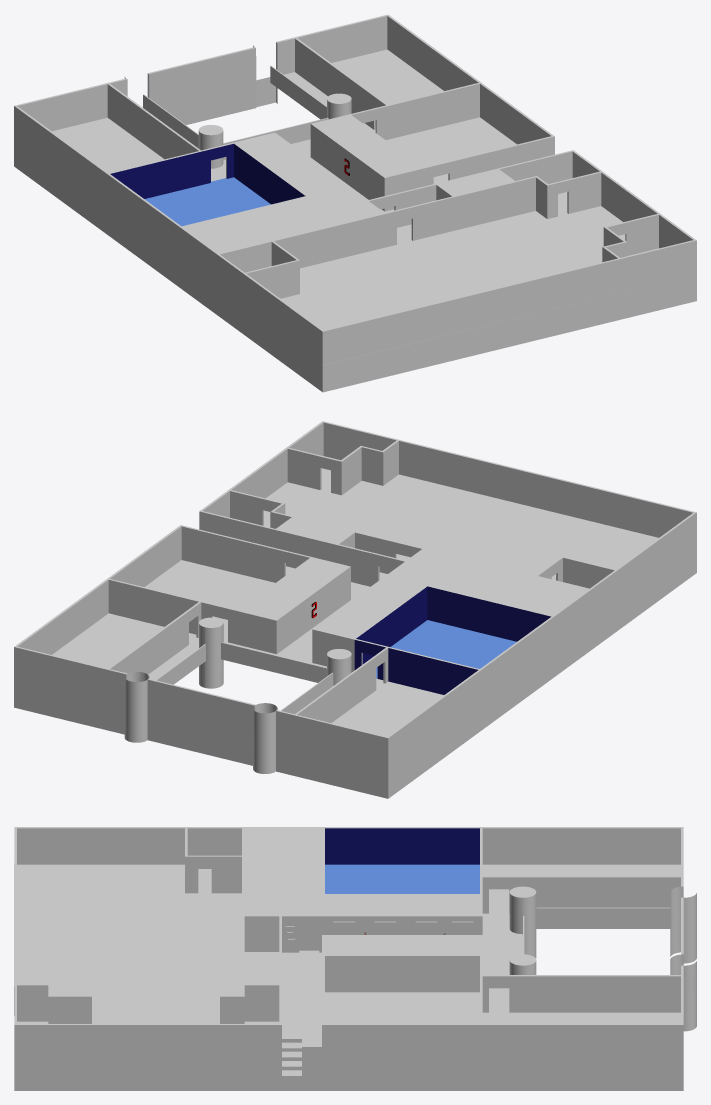
Rendered from financiallab.gltf.
3 renders of one model, top to bottom at view 1: azimuth 30°, elevation 25°; view 2: azimuth 150°, elevation 25°; view 3: azimuth 270°, elevation 25°, orthographic. The views are drawn at different scales.
Visible parts, largest first — view 1: root; view 2: root; view 3: root.
Boxes of the visible parts, left/top/right/bottom form: root: left=14, top=14, right=696, bottom=392; root: left=14, top=421, right=696, bottom=798; root: left=14, top=827, right=696, bottom=1090.
Bounding box in the file's own units: 35 × 5.42 × 51.02.
